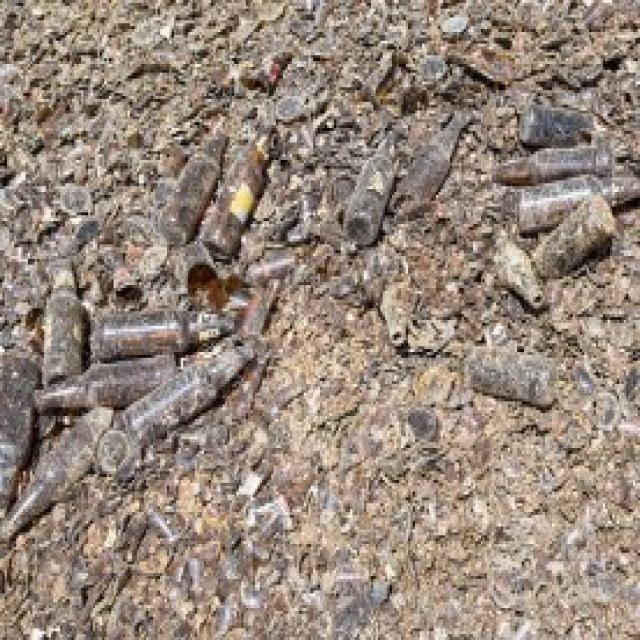electronic: (41, 253, 90, 389)
